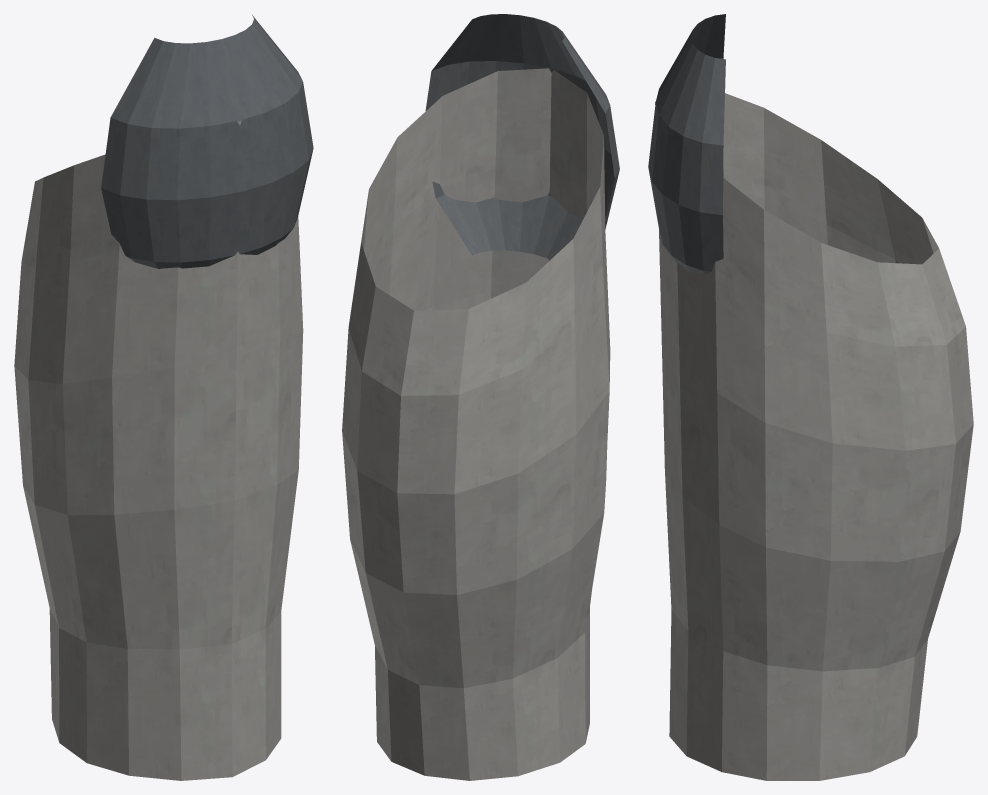
File: eq_future_1_leg.glb
3 views of the same model, side by side, from view 1: azimuth 30°, elevation 25°; view 2: azimuth 150°, elevation 25°; view 3: azimuth 270°, elevation 25° (orthographic). The views are drawn at different scales.
Visible parts, largest first — view 1: eq_future_1_leg; view 2: eq_future_1_leg; view 3: eq_future_1_leg.
Part boxes in pixels (x1,y1,x2,y2): eq_future_1_leg: (14,15,313,780); eq_future_1_leg: (342,14,619,780); eq_future_1_leg: (648,14,973,780).
Size of the model in its own units: 0.1479 by 0.43 by 0.1813.
2 materials, 2 textured.
